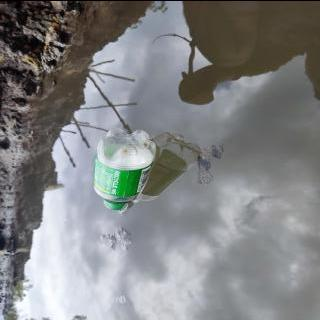bottle: (90, 125, 161, 212)
